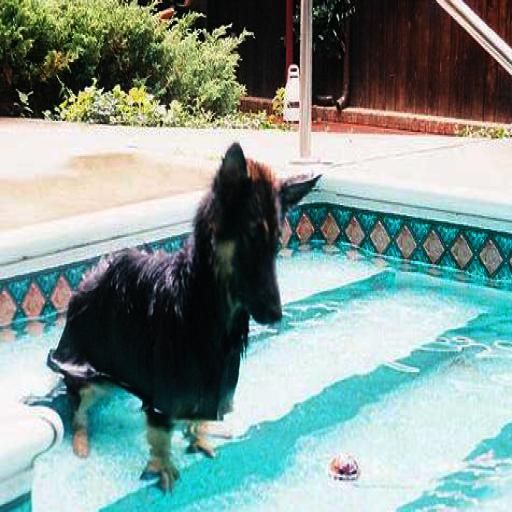dog_face: (209, 139, 312, 335)
